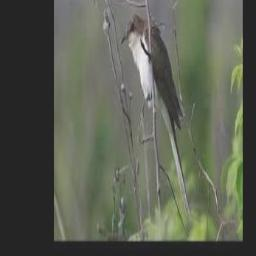Cuckoo: (121, 12, 191, 221)
